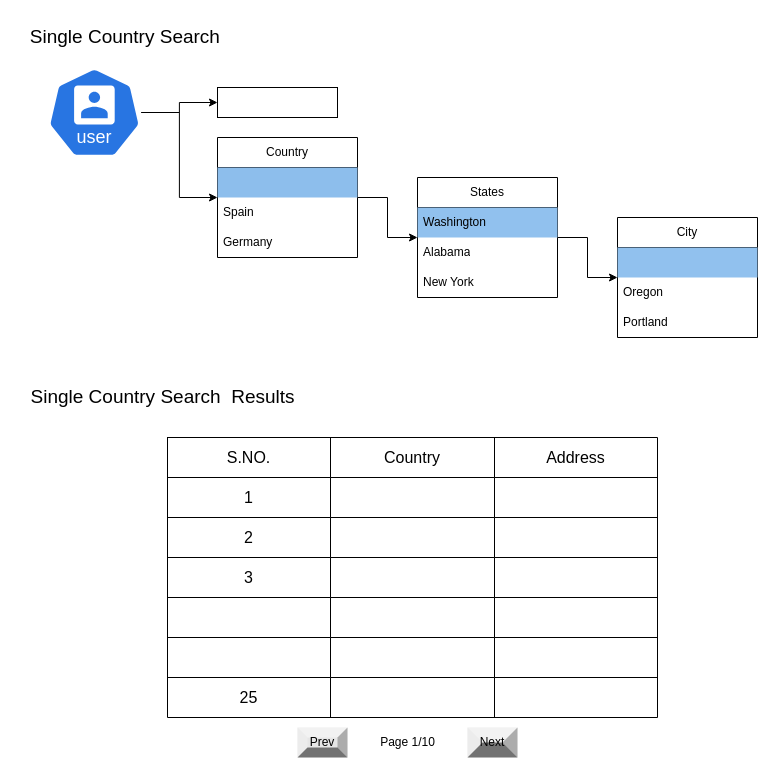
The diagram is 775 pixels wide and 774 high, and some of its shapes have lost their labels. Each missing label, with the centre of its shape:
Name: (x=277, y=102)
Seattle: (x=687, y=262)
USA: (x=287, y=182)
